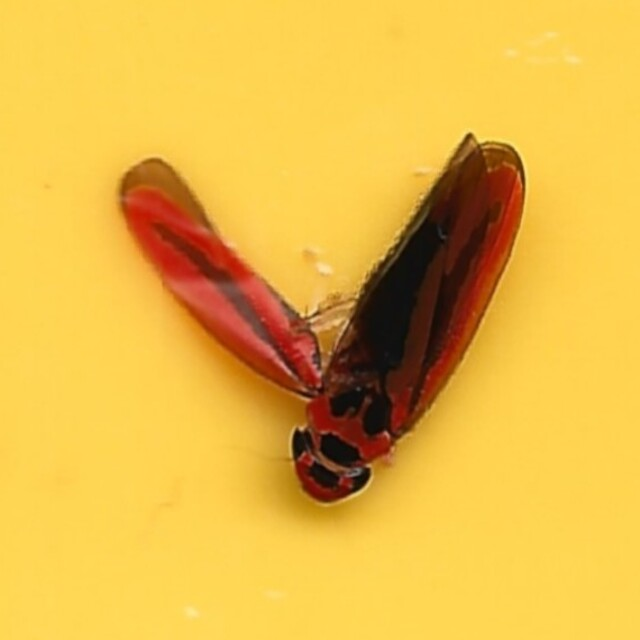Hemiptera: (112, 128, 528, 512)
